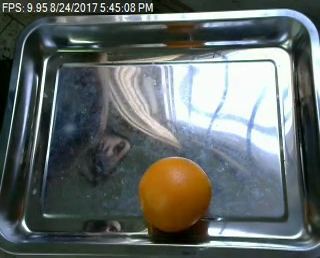Orange: (137, 155, 213, 232)
